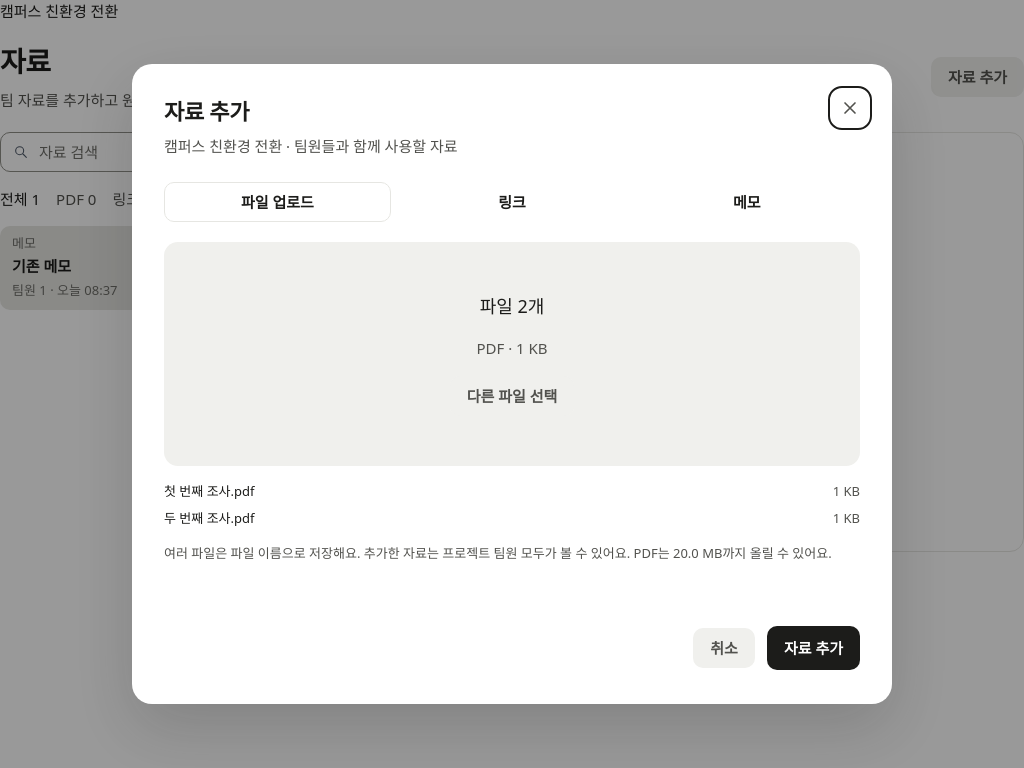
Scenario: 여러 PDF는 차례로 올리고 실패한 파일만 이유와 함께 남겨 다시 올린다
This screenshot has width=1024, height=768.
Earlier steps of the test are not shown.
Later steps or results of the test are not shown.
Check: the text "파일 2개" is shown, box top-left (480, 292), bottom-right (544, 320)
Step 1. Click the button "자료 추가" → click(813, 648), box top-left (767, 626), bottom-right (860, 670)
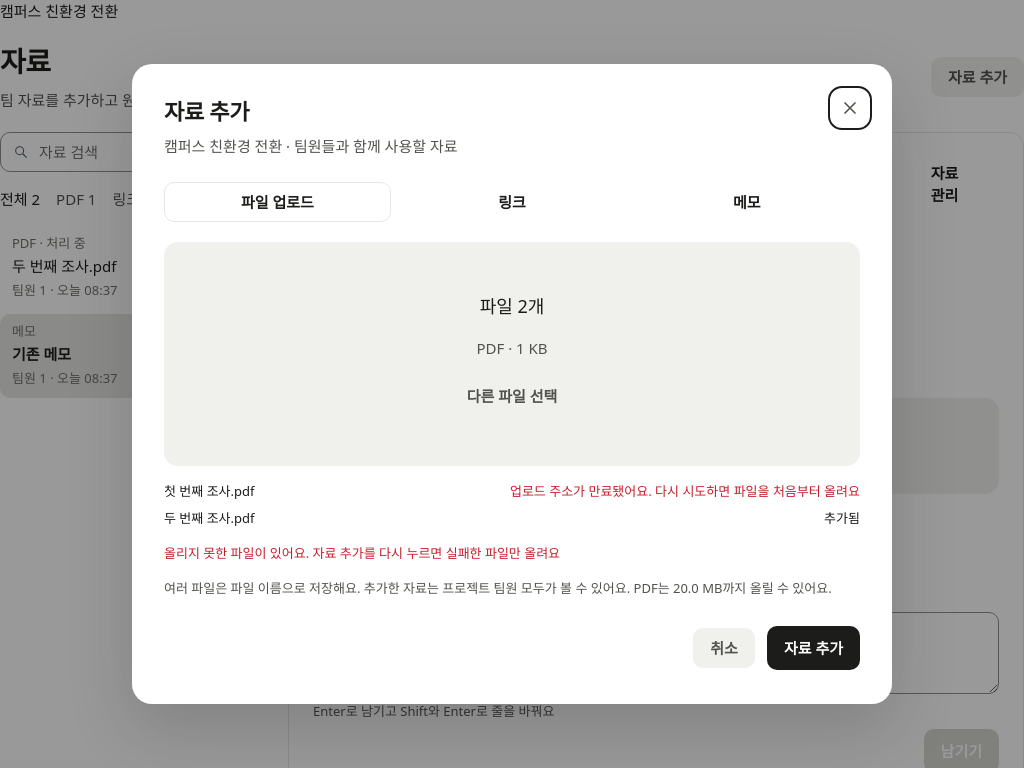
Check: the text "추가됨" is shown, box top-left (824, 509), bottom-right (860, 528)
Check: the text "업로드 주소가 만료됐어요. 다시 시도하면 파일을 처음부터 올려요" is shown, box top-left (510, 482), bottom-right (860, 501)
Check: the text "올리지 못한 파일이 있어요. 자료 추가를 다시 누르면 실패한 파일만 올려요" is shown, box top-left (164, 544), bottom-right (560, 562)
